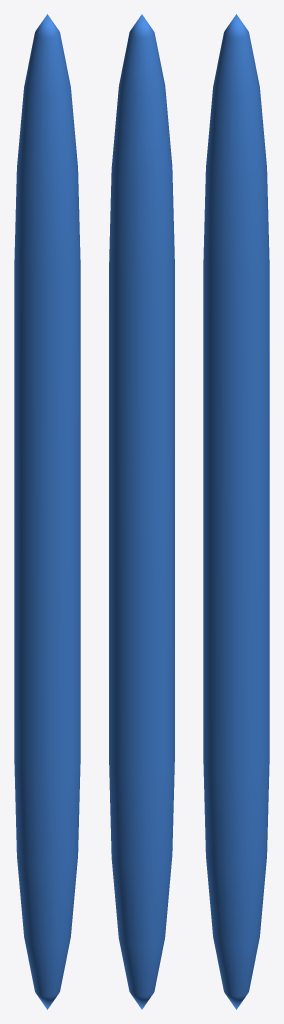
Rendered from laser_blue.fbx.
3 renders of one model, left to right at view 1: azimuth 90°, elevation 25°; view 2: azimuth 150°, elevation 25°; view 3: azimuth 270°, elevation 25°, orthographic.
Parts seen in each view (by area): view 1: laser_blue; view 2: laser_blue; view 3: laser_blue.
Boxes of the visible parts, <box> form: laser_blue: <box>14,14,80,1009</box>; laser_blue: <box>109,14,174,1009</box>; laser_blue: <box>203,14,269,1009</box>.
Bounding box in the file's own units: 0.2408 × 4 × 0.2408.
